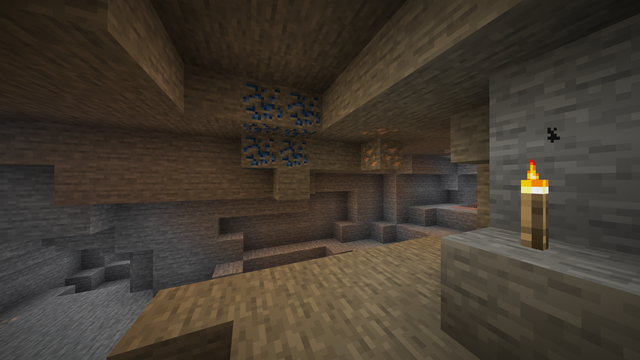iron: (357, 122, 405, 171)
lapis: (239, 77, 322, 168)
